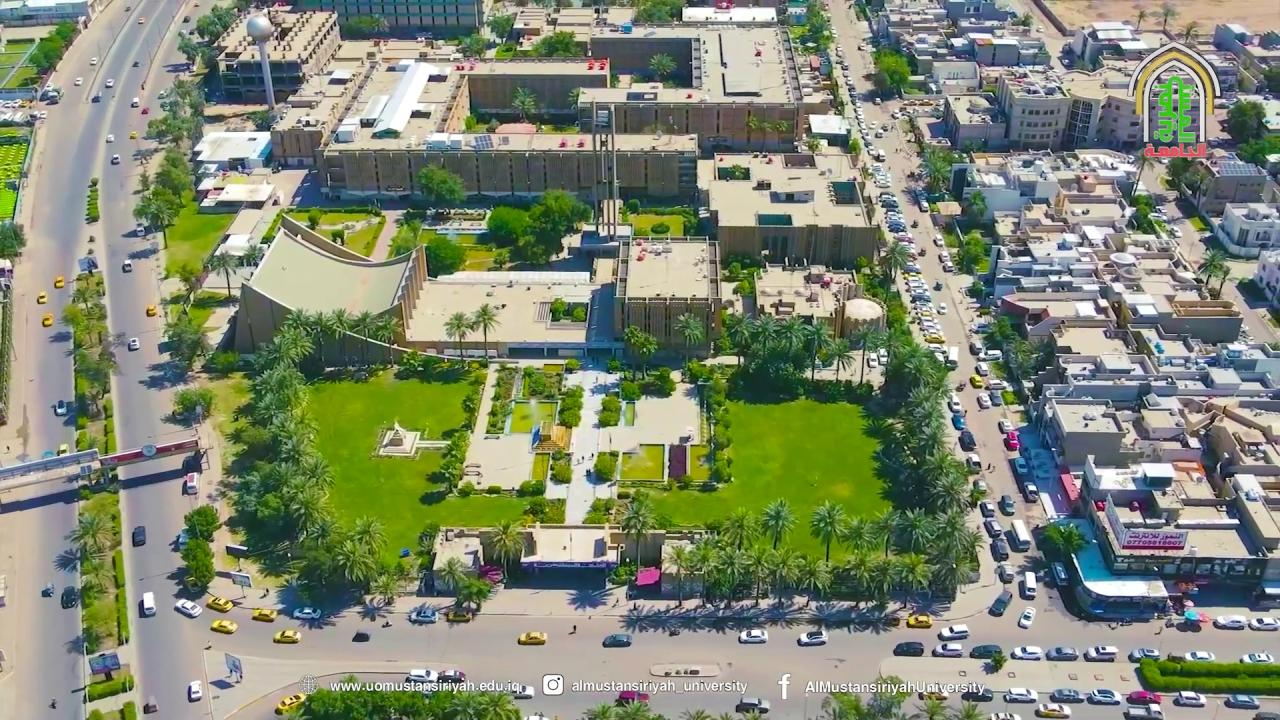car: (275, 694, 307, 715), (1084, 645, 1119, 663), (988, 592, 1012, 618), (734, 697, 770, 714), (1123, 705, 1164, 719), (174, 598, 202, 618), (1086, 690, 1121, 706), (1045, 646, 1079, 662), (1034, 703, 1070, 718), (408, 606, 438, 624), (1173, 691, 1206, 707), (937, 624, 970, 640), (1010, 645, 1043, 661), (1128, 648, 1160, 664), (796, 630, 826, 647), (1003, 688, 1037, 703), (1126, 690, 1162, 704), (893, 641, 924, 657), (618, 692, 649, 708), (1213, 615, 1246, 630), (738, 627, 767, 644), (1225, 695, 1260, 709), (1049, 689, 1084, 703), (932, 642, 964, 657), (405, 669, 437, 684), (969, 645, 1002, 659), (60, 586, 80, 609), (517, 631, 547, 646), (602, 633, 632, 648), (961, 688, 993, 702), (207, 596, 233, 613), (1248, 618, 1279, 632), (183, 471, 200, 496), (273, 629, 301, 644), (1017, 607, 1036, 629), (437, 670, 466, 684), (210, 619, 237, 634), (1240, 652, 1273, 664), (294, 606, 322, 620), (251, 608, 277, 623), (141, 591, 156, 617), (906, 613, 932, 628), (1184, 650, 1214, 662), (446, 610, 471, 624), (230, 571, 251, 587), (188, 680, 203, 702), (511, 685, 534, 699), (917, 691, 948, 701), (132, 526, 146, 547), (177, 529, 190, 551), (1023, 483, 1038, 502), (990, 712, 1021, 719), (41, 584, 55, 597), (1245, 488, 1259, 501), (54, 400, 66, 415), (128, 337, 140, 351), (42, 313, 54, 327), (121, 260, 132, 273), (36, 291, 47, 304), (54, 275, 64, 288), (398, 548, 411, 558), (146, 304, 156, 316), (91, 91, 101, 102), (111, 153, 120, 165), (135, 225, 145, 235), (105, 78, 114, 87), (105, 134, 114, 143), (131, 97, 139, 107), (74, 77, 83, 85), (130, 131, 138, 139), (89, 57, 98, 64), (137, 17, 145, 24)
fountain: (617, 442, 666, 483), (513, 397, 557, 434), (420, 224, 490, 245), (686, 441, 712, 484), (620, 399, 646, 430), (530, 450, 552, 485)
person: (568, 624, 577, 635)
tree: (660, 497, 984, 614), (856, 341, 985, 602), (217, 325, 337, 556), (52, 508, 122, 702), (483, 187, 592, 267), (57, 284, 119, 417), (278, 306, 399, 370), (296, 685, 522, 719), (334, 513, 388, 591), (696, 375, 733, 484), (616, 490, 658, 573), (132, 185, 186, 249), (437, 555, 491, 615), (252, 324, 314, 374), (162, 309, 209, 372), (1002, 336, 1044, 404), (488, 518, 526, 585), (63, 510, 117, 557), (891, 551, 932, 608), (808, 499, 845, 562), (661, 543, 698, 606), (152, 144, 193, 200), (765, 545, 802, 606), (416, 164, 465, 209), (741, 543, 776, 606), (0, 287, 16, 424), (437, 429, 471, 492), (412, 520, 440, 594), (759, 497, 798, 550), (672, 311, 704, 375), (870, 47, 910, 98), (621, 325, 658, 380), (951, 217, 986, 275), (179, 537, 215, 591), (1043, 520, 1086, 565), (721, 310, 755, 366), (1225, 98, 1266, 144), (170, 385, 217, 425), (794, 554, 833, 602), (719, 506, 760, 551), (919, 143, 955, 194), (471, 301, 501, 362), (802, 320, 832, 381), (424, 234, 467, 276), (442, 310, 475, 364), (745, 113, 787, 154), (208, 248, 239, 301), (819, 336, 855, 381), (1194, 245, 1228, 291), (529, 28, 582, 57), (870, 508, 900, 559), (183, 503, 222, 542), (455, 576, 492, 614), (556, 397, 582, 450), (352, 309, 377, 364), (386, 218, 420, 258), (879, 238, 909, 283), (373, 314, 399, 365), (175, 259, 202, 308), (802, 6, 831, 51), (68, 281, 104, 316), (1164, 154, 1192, 198), (777, 313, 805, 355), (556, 385, 583, 428), (437, 556, 467, 594), (619, 379, 642, 426), (1151, 1, 1179, 37), (647, 51, 677, 84), (1131, 148, 1154, 190), (510, 85, 536, 122), (484, 13, 513, 44), (460, 388, 480, 432), (348, 12, 388, 34), (456, 32, 486, 60), (822, 73, 843, 110), (651, 366, 676, 397), (596, 394, 620, 426), (593, 450, 617, 481), (242, 242, 266, 268), (968, 189, 988, 219), (85, 176, 98, 222), (490, 247, 511, 270), (744, 111, 759, 143), (847, 136, 862, 166), (306, 208, 323, 230), (1182, 21, 1198, 44), (1132, 7, 1147, 31), (462, 112, 477, 133), (563, 357, 581, 374)
